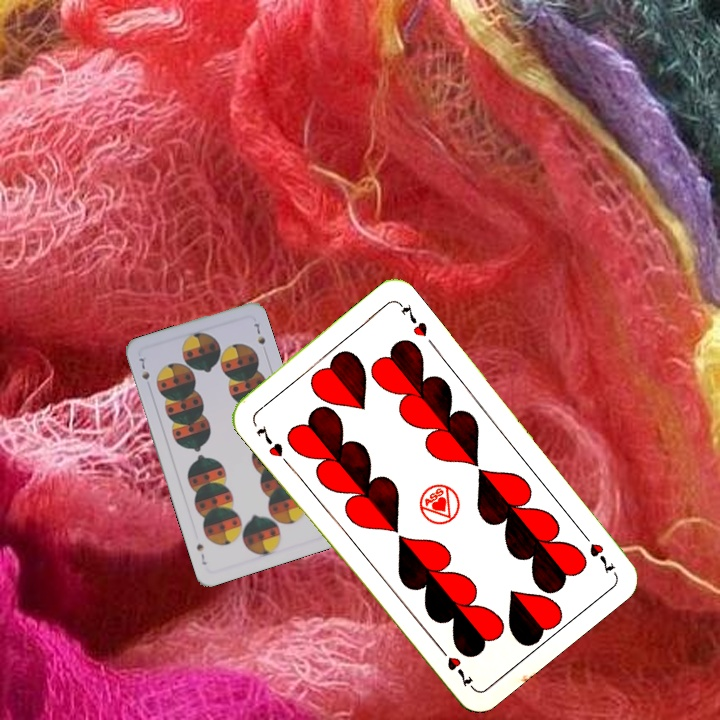H7: (576, 526, 619, 577), (252, 421, 286, 460)
S7: (135, 354, 152, 382)
